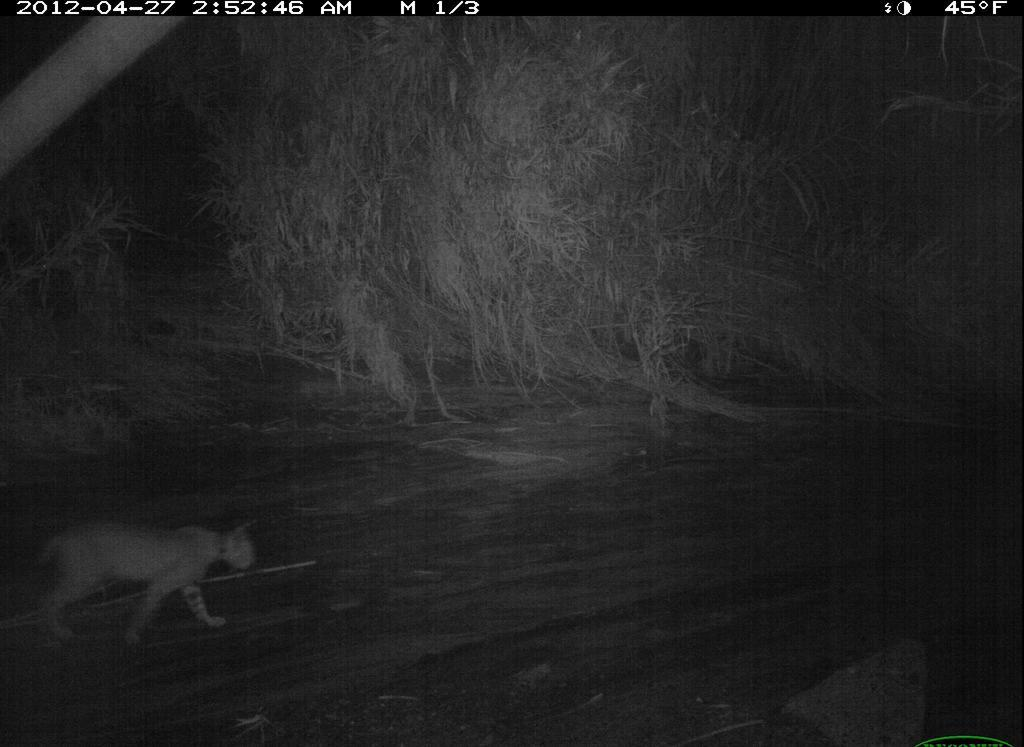bobcat: (29, 507, 265, 656)
